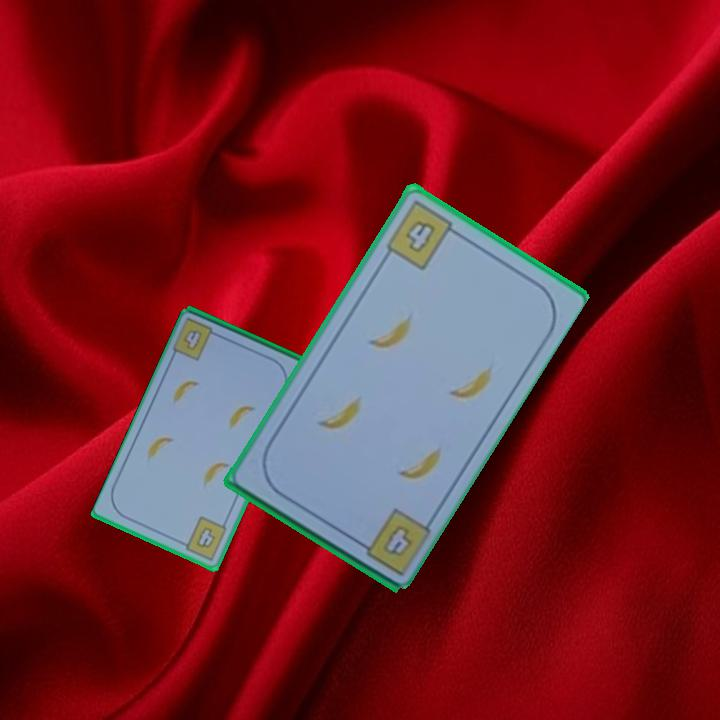4b: (382, 197, 463, 273), (177, 513, 230, 563), (378, 520, 416, 559), (180, 326, 206, 354)
